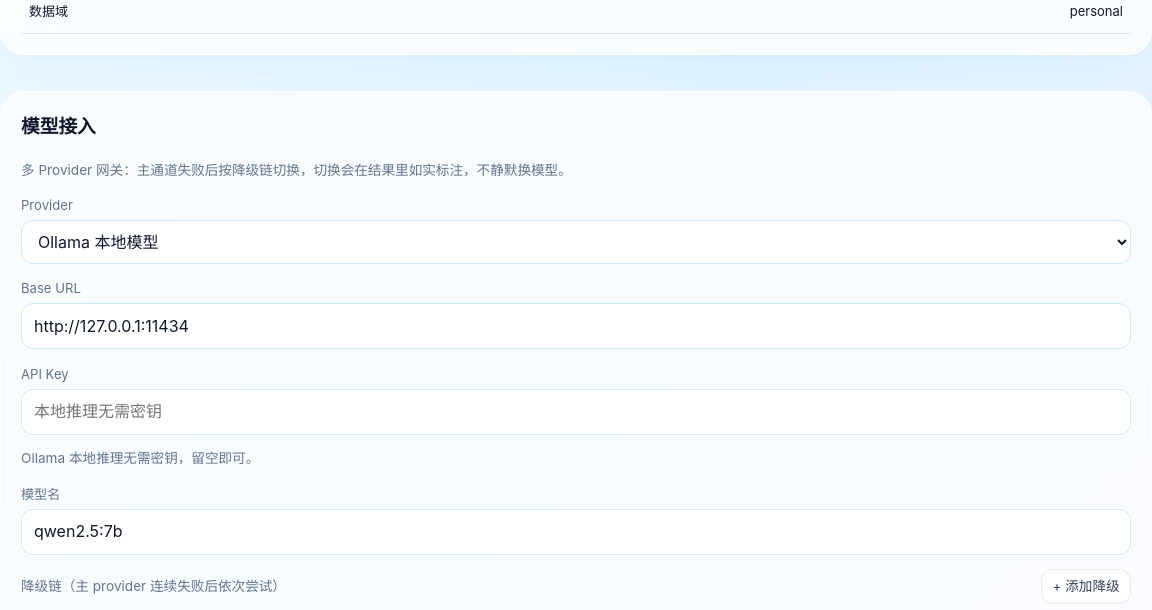
Test case: SettingsPage 模型接入卡 (W4) › 探测端点与表单不一致时给出警示而不是假装测的是草稿
This screenshot has width=1152, height=610.
(page scrolled)
Expected: the dropdown with test id "provider-select" shows "Ollama 本地模型", [21, 220, 1131, 264]
Type "http://192.168.1.9:11434" into the field with test id "base-url-input" at (576, 326), box [21, 303, 1131, 349]
(page scrolled)
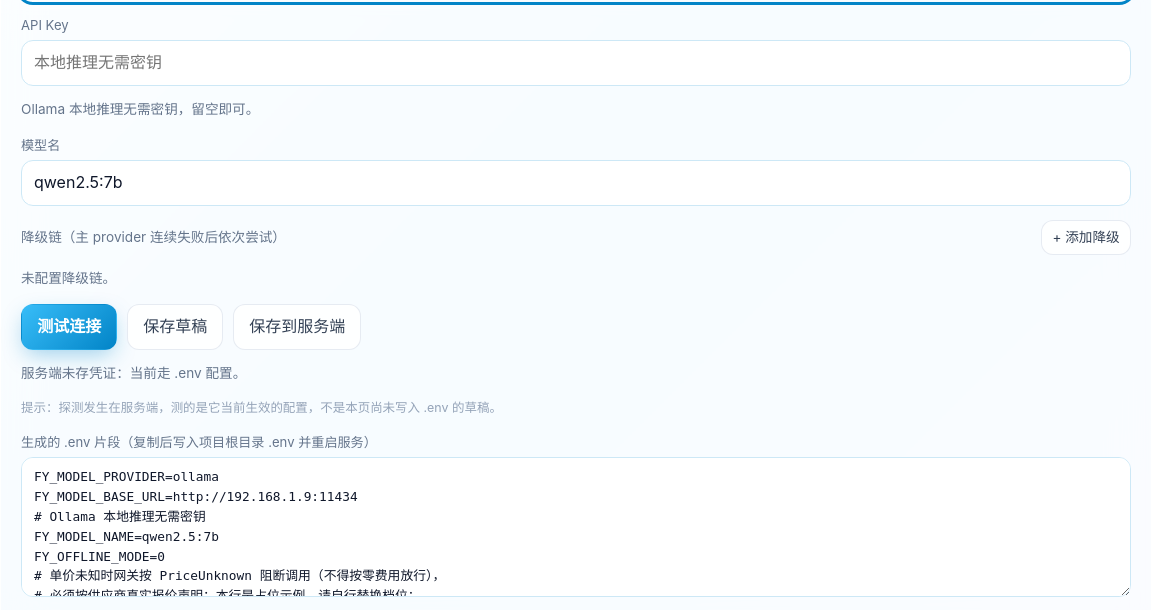
Click the button with test id "probe-button" at (69, 326), box [21, 304, 117, 350]
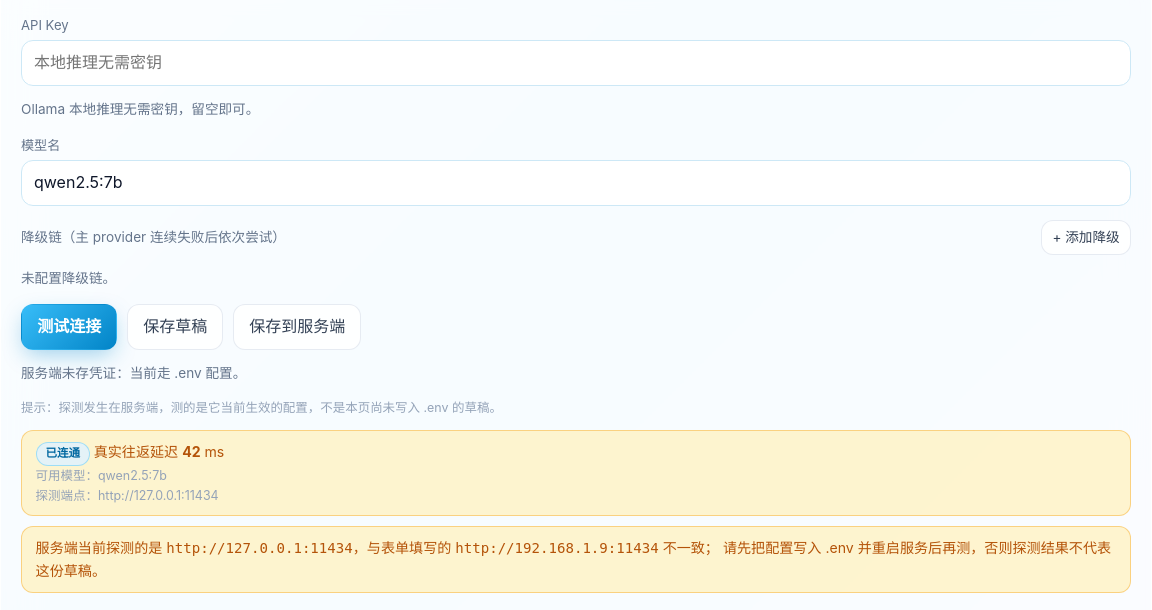
Result: the element with test id "probe-mismatch" is shown at [21, 526, 1131, 593]
Result: the element with test id "probe-mismatch" shows "http://127.0.0.1:11434" at [166, 540, 353, 556]
